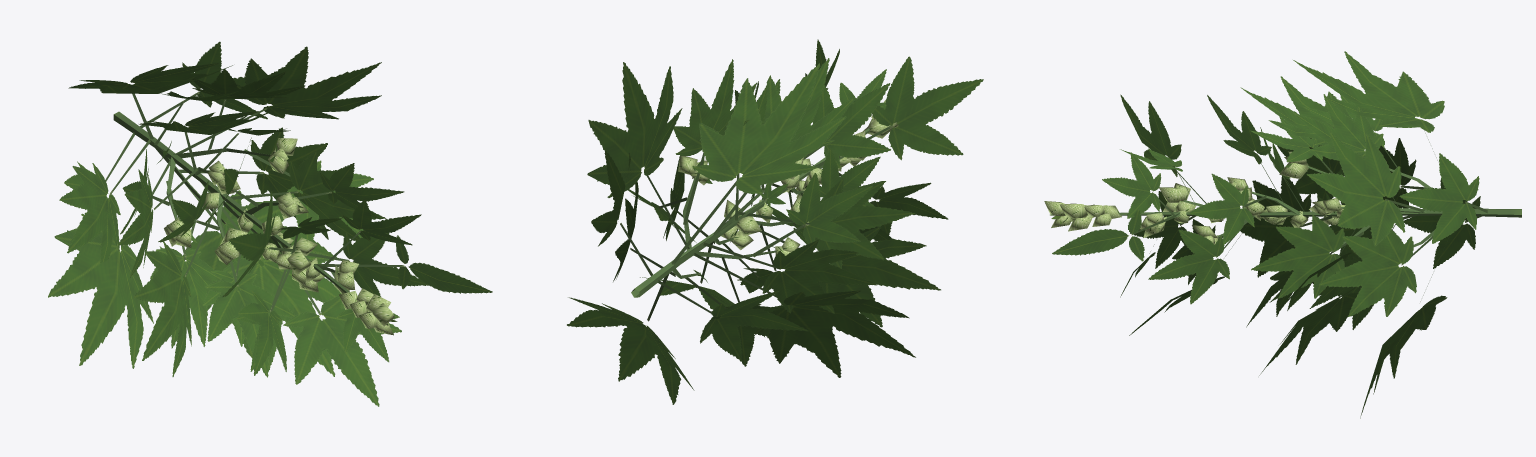
The model's file is p_male_tree_flowering_c0_cards.obj.
3 renders of one model, left to right at view 1: azimuth 30°, elevation 25°; view 2: azimuth 150°, elevation 25°; view 3: azimuth 270°, elevation 25°, orthographic. The views are drawn at different scales.
Bounding box in the file's own units: 1.32 × 1.26 × 1.55.
Materials: 1 (1 with a texture image).
